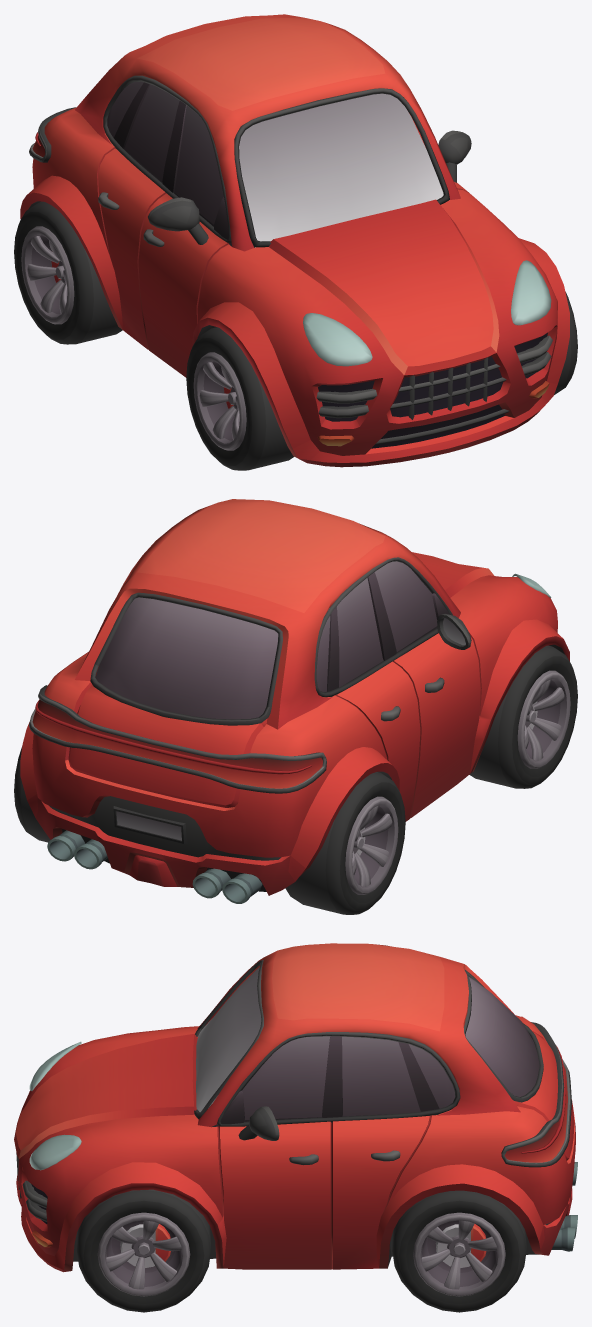
File: red.gltf
The picture shows the model from 3 angles, top to bottom: view 1: azimuth 30°, elevation 25°; view 2: azimuth 150°, elevation 25°; view 3: azimuth 270°, elevation 25°; orthographic projection. The views are drawn at different scales.
Visible parts, largest first — view 1: body_01, hood, accessories, wheel_L2, wheel_R, wheel_L, lanterns; view 2: body_01, wheel_L2, wheel_R, lanterns, exhaust_pipe, accessories, hood, wheel_L1; view 3: body_01, wheel_L, wheel_L1, hood, accessories, lanterns, exhaust_pipe, brake.
Boxes of the visible parts, box(x1,y1,x2,y2) form: body_01: box(20, 14, 569, 467); hood: box(269, 199, 499, 375); accessories: box(98, 130, 552, 444); wheel_L2: box(14, 201, 122, 344); wheel_R: box(186, 327, 293, 470); wheel_L: box(554, 291, 577, 394); lanterns: box(29, 107, 75, 162); body_01: box(20, 499, 569, 895); wheel_L2: box(285, 772, 405, 914); wheel_R: box(469, 645, 577, 788); lanterns: box(29, 685, 326, 793); exhaust_pipe: box(47, 830, 262, 903); accessories: box(381, 573, 551, 721); hood: box(412, 552, 494, 597); wheel_L1: box(14, 746, 50, 842); body_01: box(16, 943, 575, 1272); wheel_L: box(76, 1189, 210, 1312); wheel_L1: box(392, 1190, 526, 1312); hood: box(14, 1034, 197, 1158); accessories: box(16, 1041, 400, 1221); lanterns: box(501, 1022, 571, 1167); exhaust_pipe: box(551, 1162, 577, 1251); brake: box(155, 1224, 486, 1261).
Bounding box in the file's own units: 2.82 × 2.42 × 4.56.
Materials: 1 (1 with a texture image).
